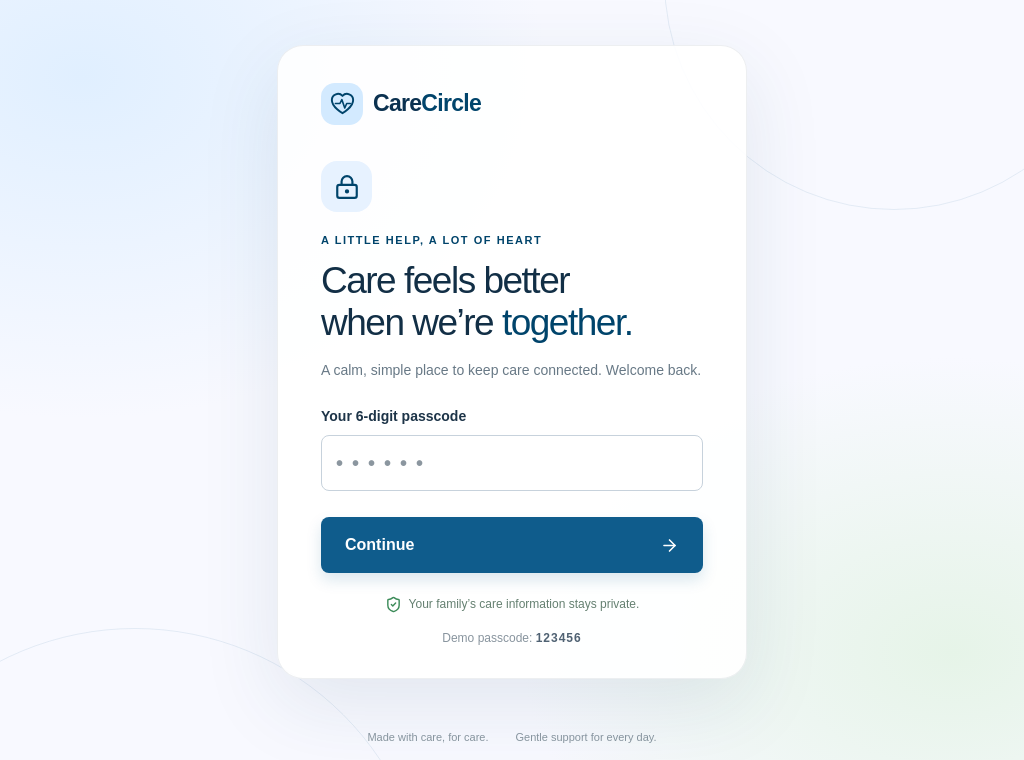
Test case: passcode and role access › opens role selection with the demo passcode and saves the chosen role
Type "123456" into the password field labelled "Your 6-digit passcode" at (512, 463), box [321,435,703,491]
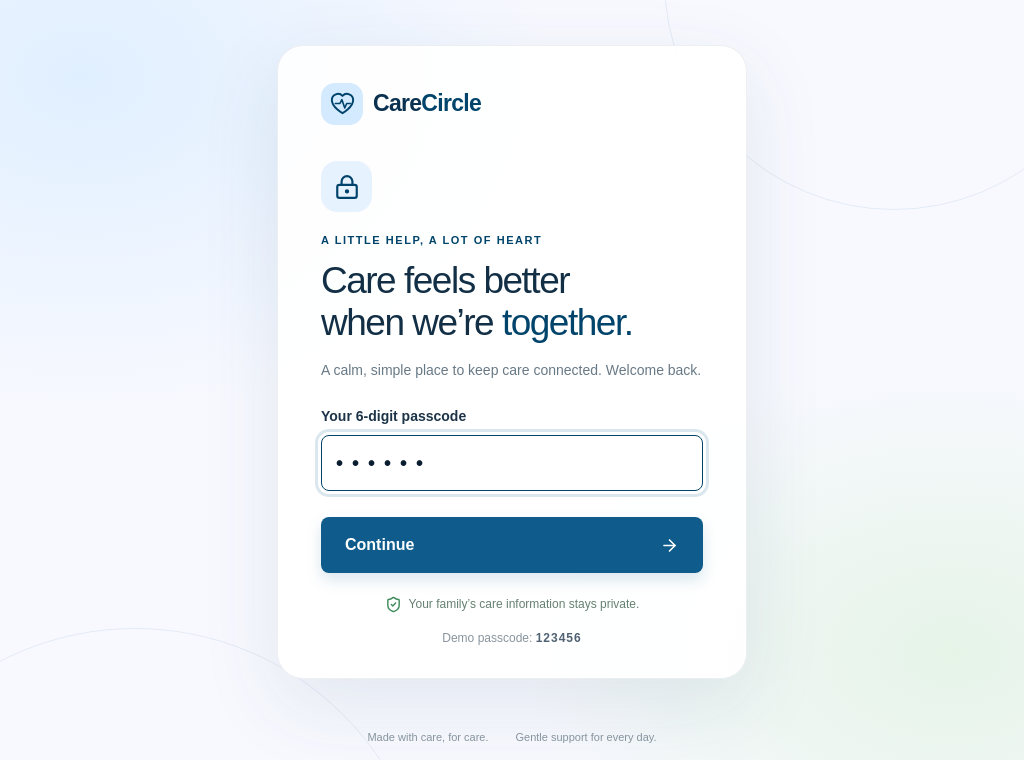
Click the button "Continue" at (380, 545), box [321,517,703,573]
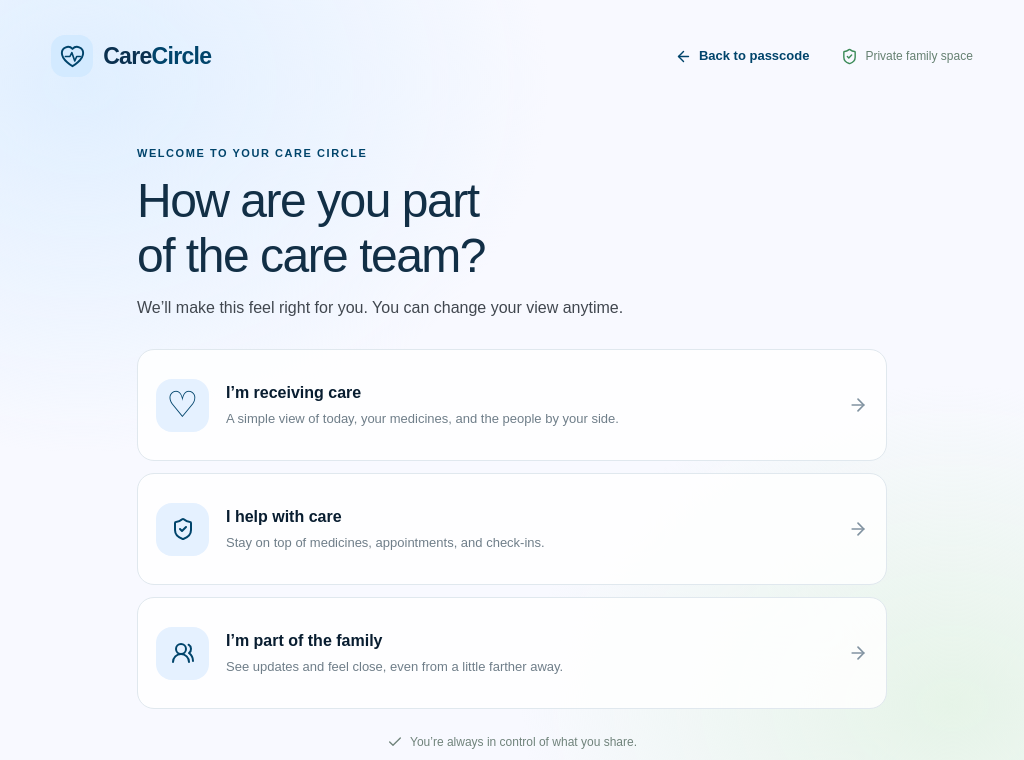
Click the button "I’m receiving care" at (182, 405), box [137,349,887,461]
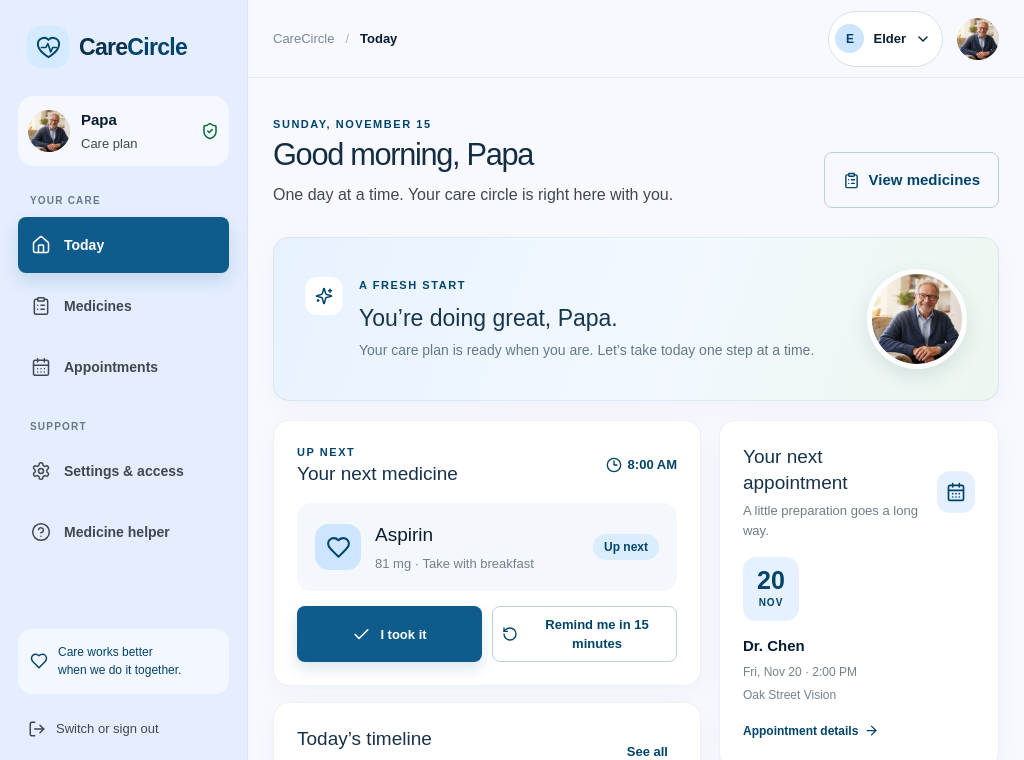
Check: the heading "Good morning, Papa" is shown, box [273,136,533,172]
